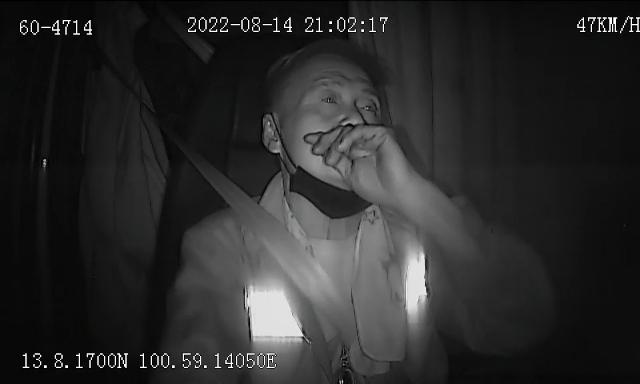Seatbelt: (151, 106, 367, 384)
